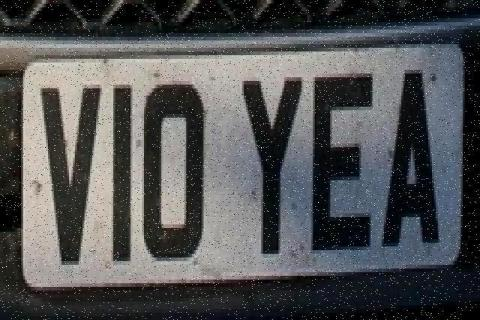LicensePlate: (9, 12, 472, 302)
